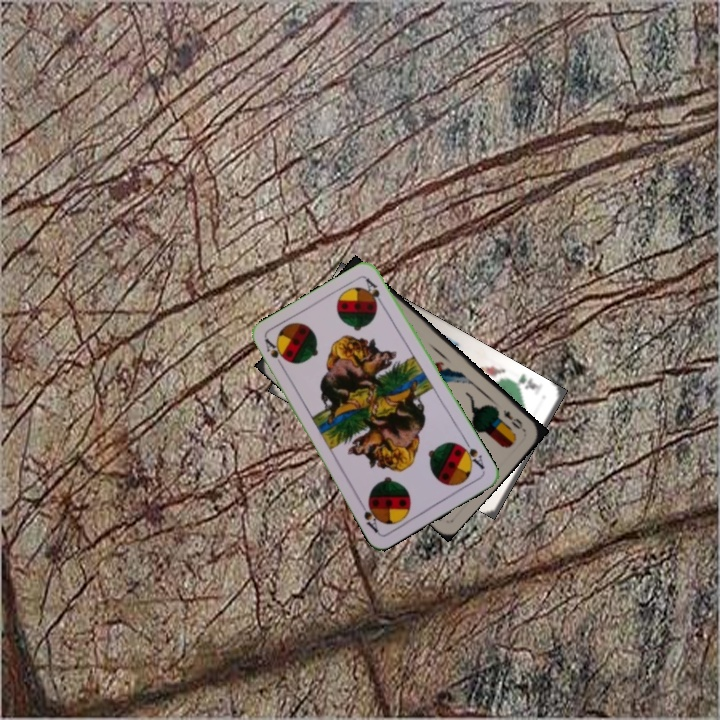EO: (499, 406, 527, 433)
GK: (508, 370, 541, 392)
SA: (456, 436, 487, 472), (261, 334, 287, 372)
